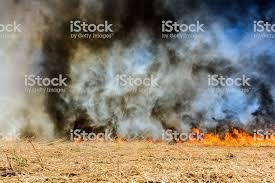fire: (180, 123, 275, 147)
